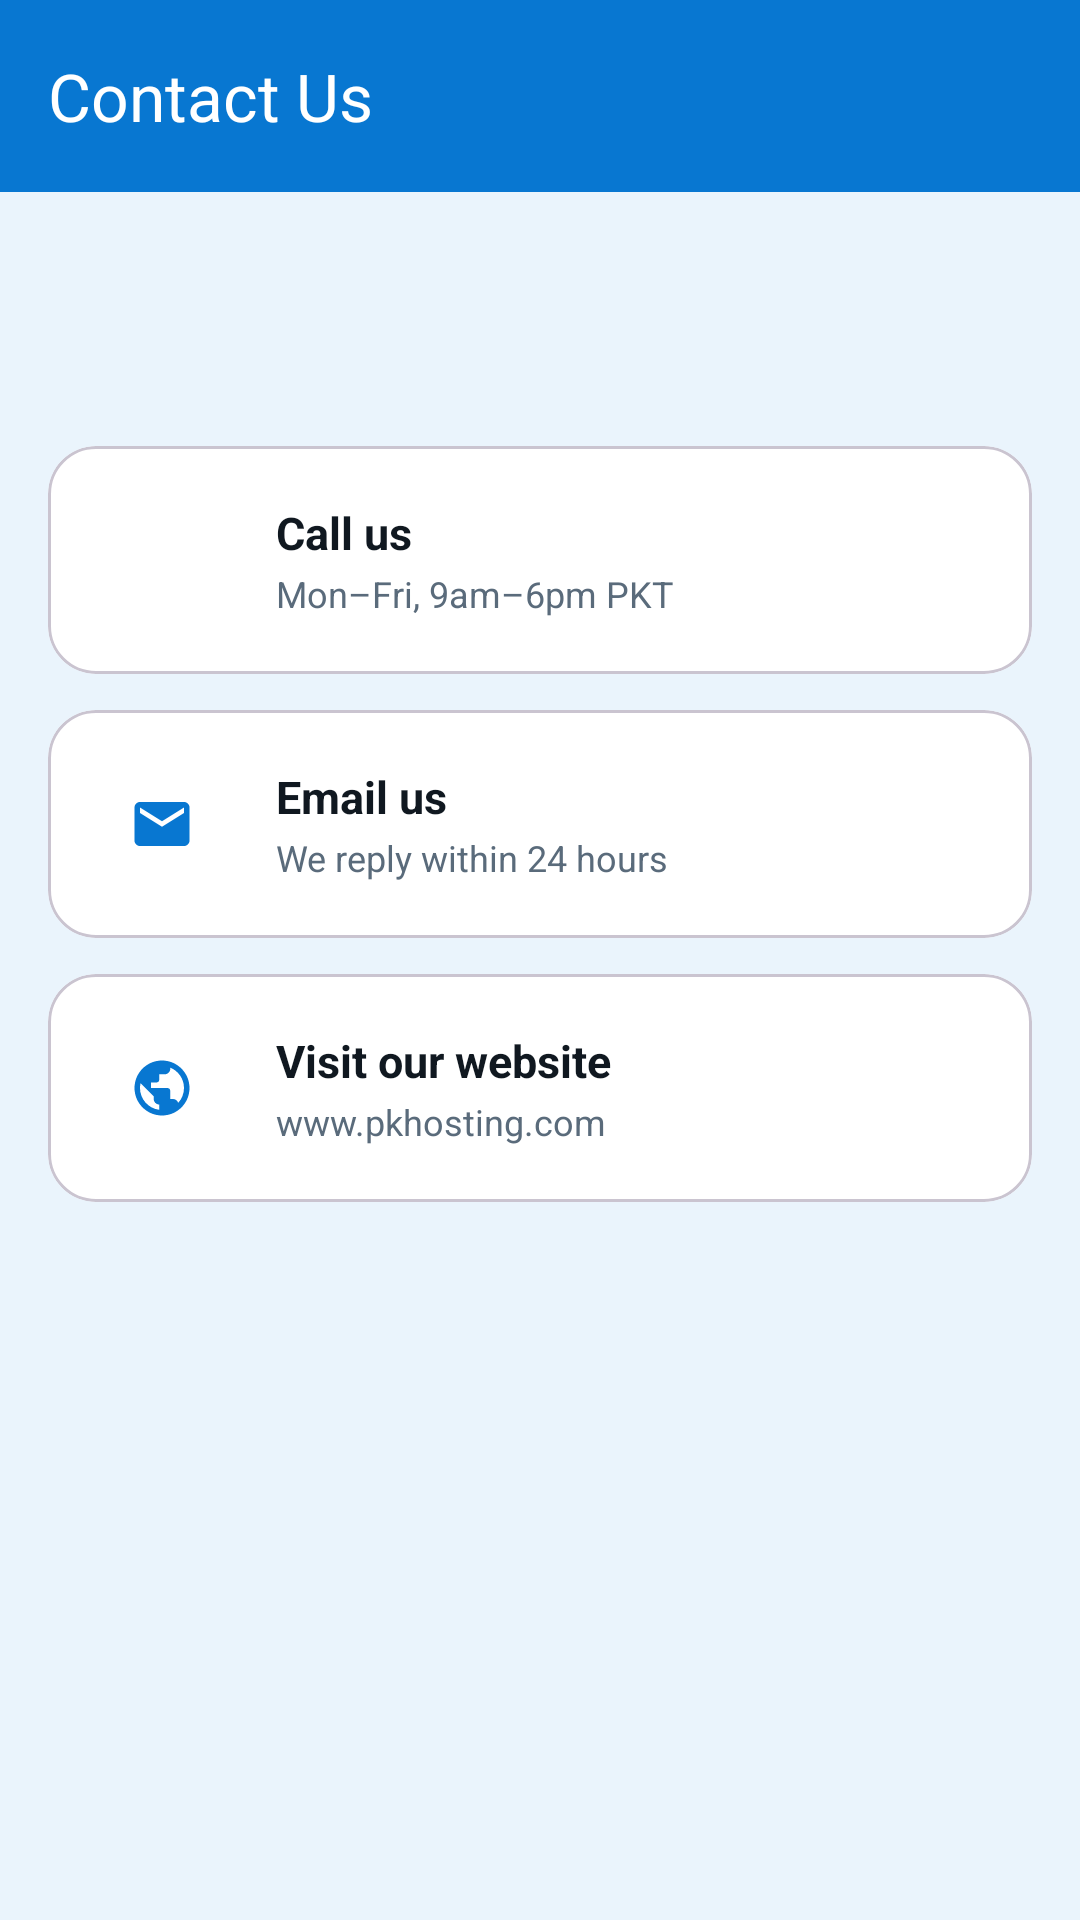

Icon bounding boxes for this 1080px×1920px phone screenshot, format region(x1, y1, x2, y2):
web: region(134, 1060, 190, 1116)
